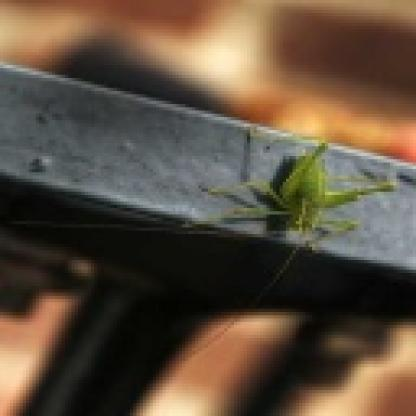grasshopper: (210, 126, 376, 256)
